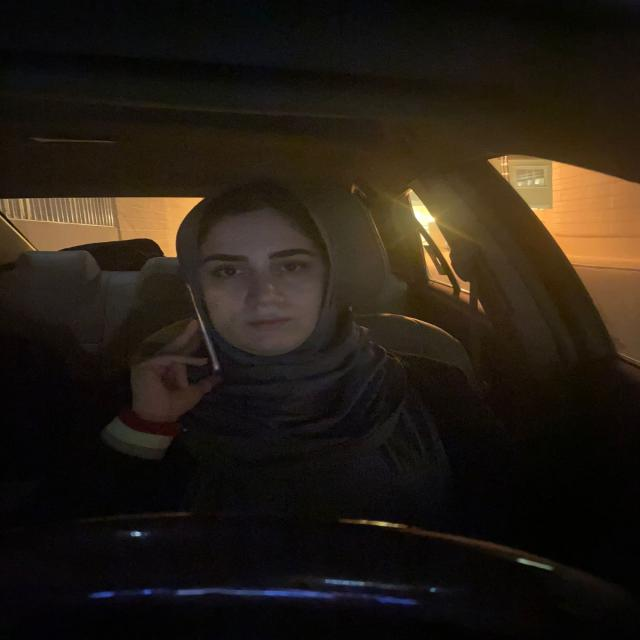phone: (181, 278, 219, 378)
